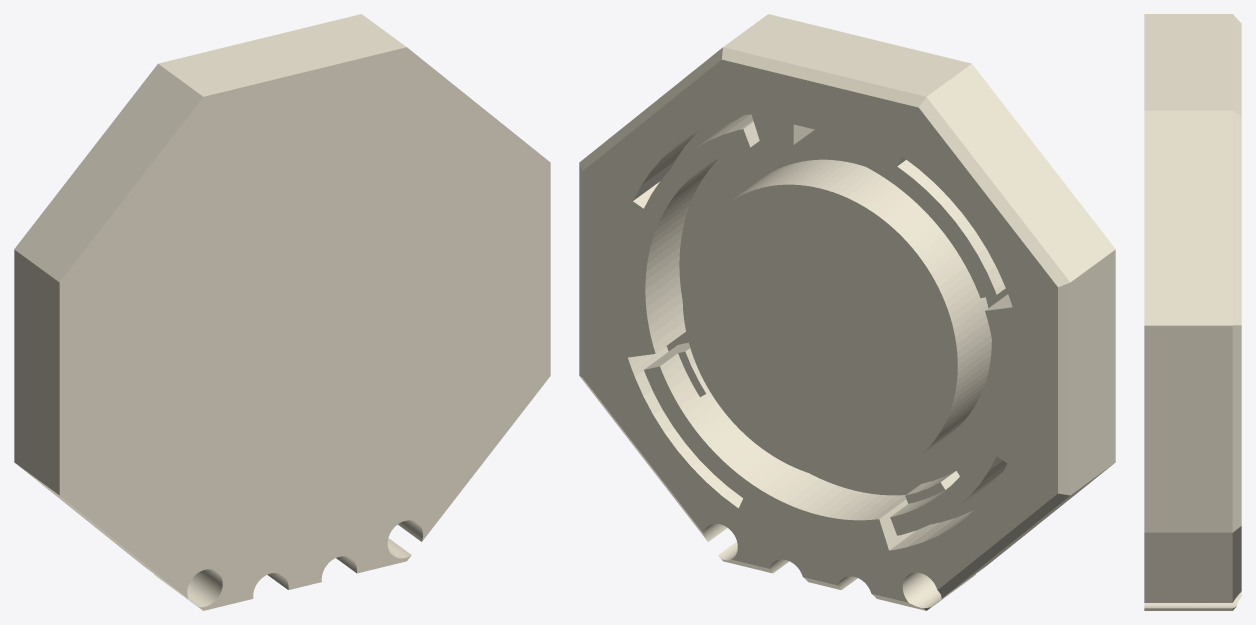
The model's file is coupon-if2-socket-25@ivory.glb.
3 views of the same model, side by side, from view 1: azimuth 30°, elevation 25°; view 2: azimuth 150°, elevation 25°; view 3: azimuth 270°, elevation 25° (orthographic). The views are drawn at different scales.
Parts seen in each view (by area): view 1: geometry_0; view 2: geometry_0; view 3: geometry_0.
Boxes of the visible parts, x1,y1,x2,y2 form: geometry_0: [14, 14, 550, 610]; geometry_0: [579, 14, 1115, 610]; geometry_0: [1144, 14, 1241, 610].
Size of the model in its own units: 25 by 25 by 4.4.
